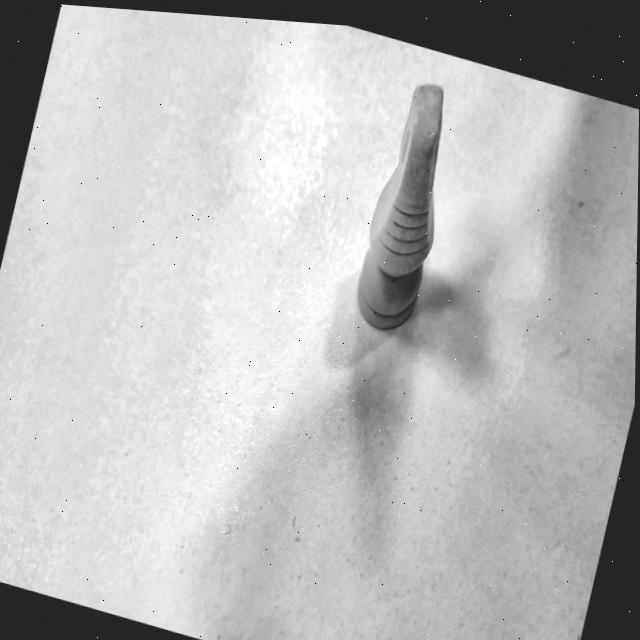white-knight: (321, 33, 501, 375)
